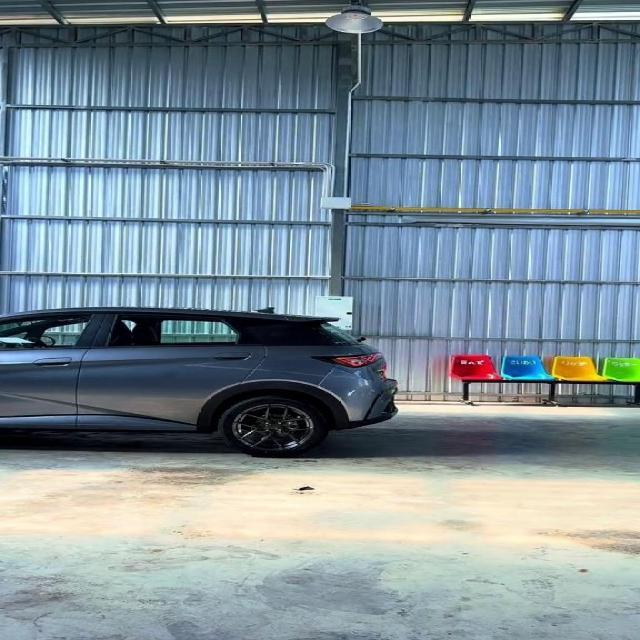Hatchback: (0, 307, 397, 458)
